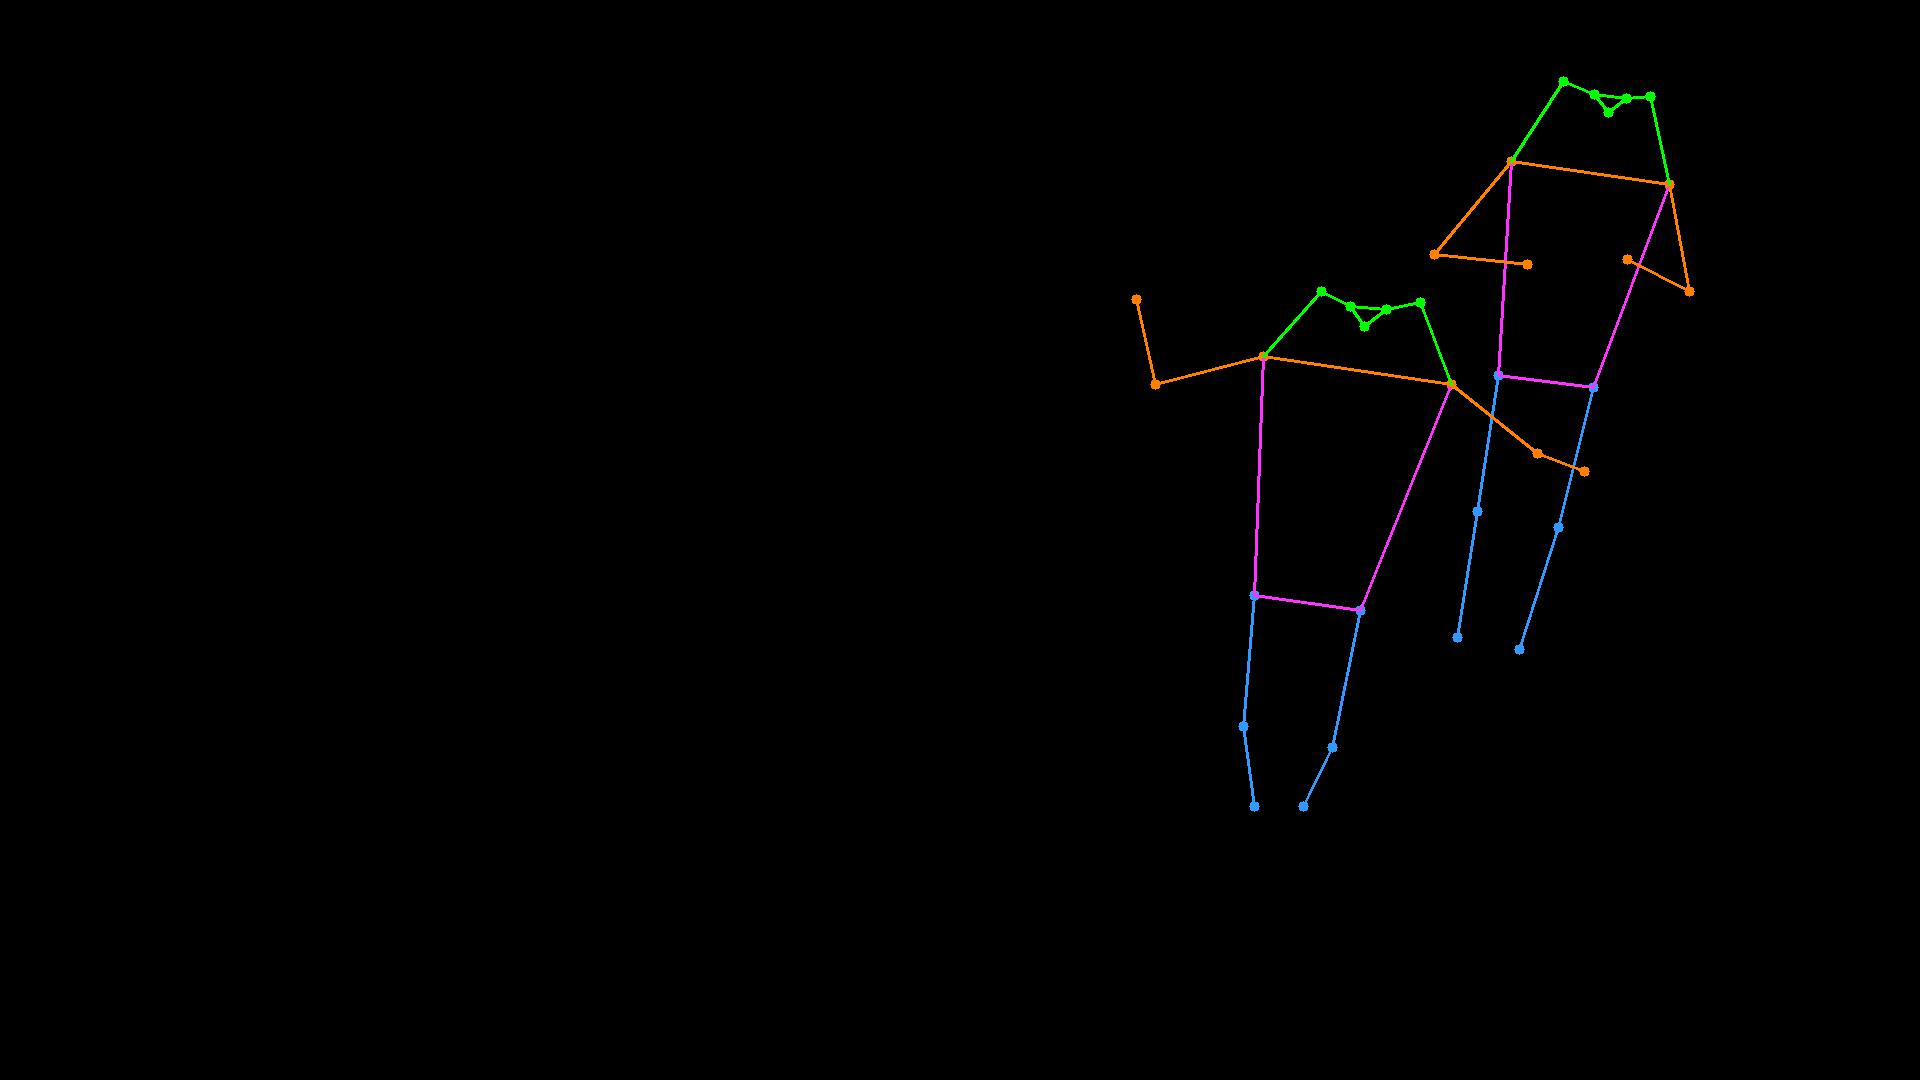normal: (1056, 55, 1731, 916)
